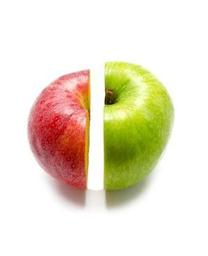apple: (104, 62, 176, 191), (26, 68, 89, 190)
